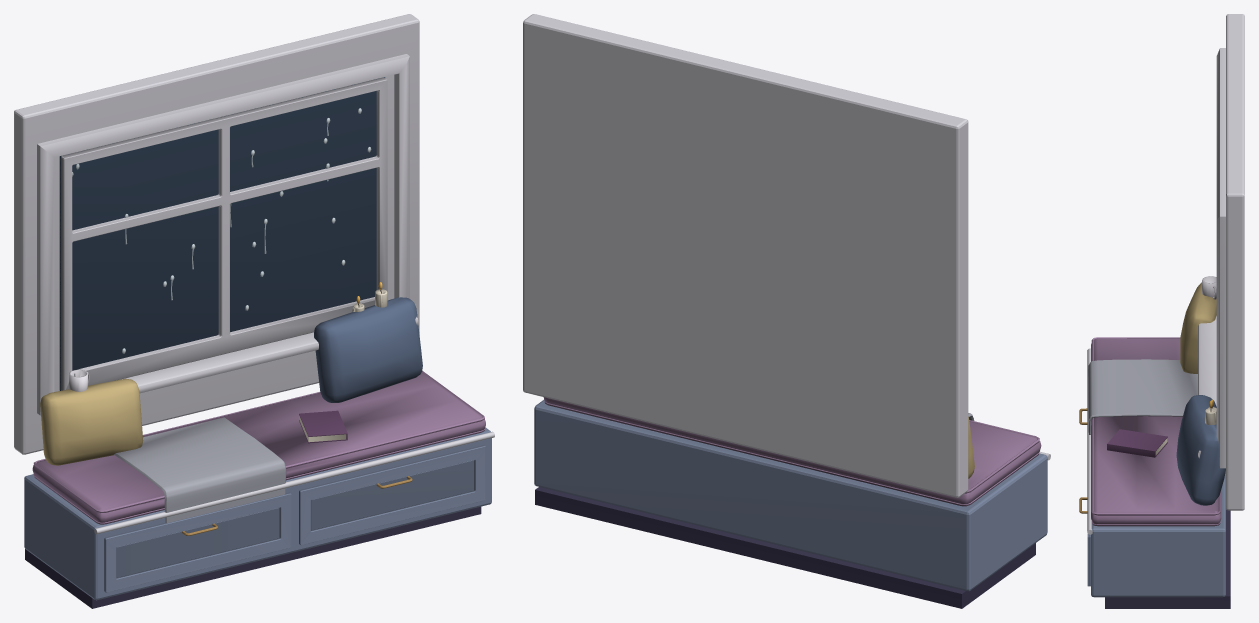
The model's file is windowSeat.glb.
The picture shows the model from 3 angles, left to right: view 1: azimuth 30°, elevation 25°; view 2: azimuth 150°, elevation 25°; view 3: azimuth 270°, elevation 25°; orthographic projection. The views are drawn at different scales.
Visible parts, largest first — view 1: body, seat; view 2: body, seat; view 3: body, seat.
Boxes of the visible parts, box(x1,y1,x2,y2) form: body: box(14, 14, 494, 608); seat: box(32, 371, 485, 524); body: box(523, 14, 1050, 608); seat: box(543, 397, 1041, 506); body: box(1079, 14, 1244, 608); seat: box(1088, 337, 1221, 526).
Bounding box in the file's own units: 1.84 × 1.97 × 0.71.
